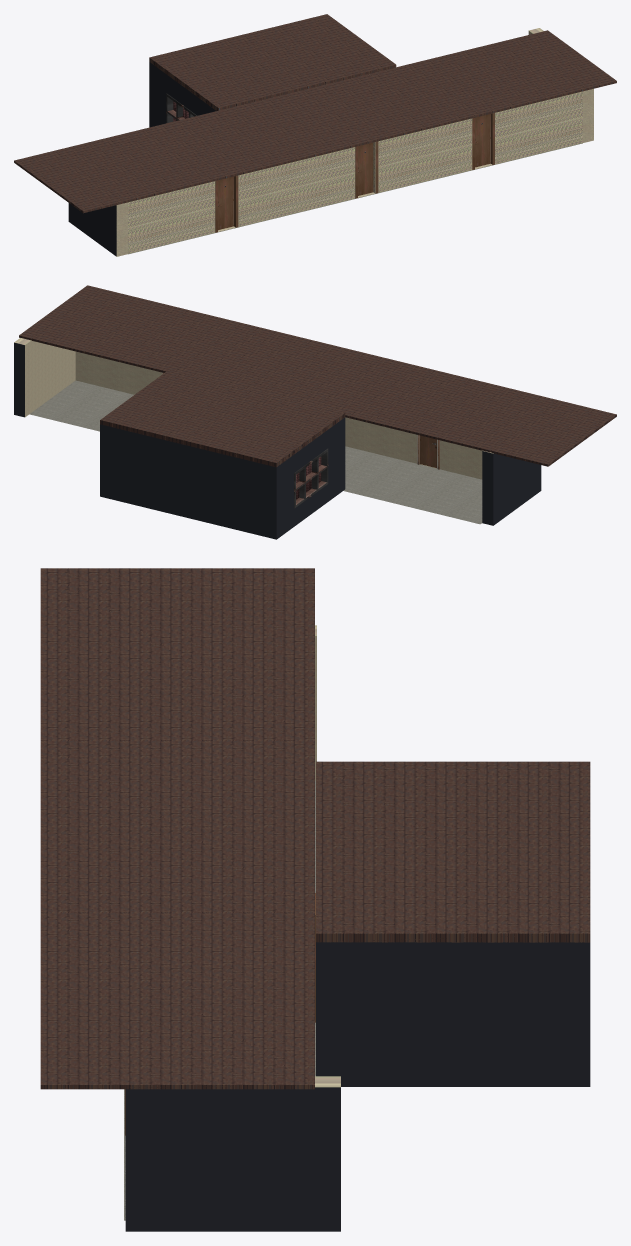
File: quarto finalizado.fbx
The picture shows the model from 3 angles, top to bottom: view 1: azimuth 30°, elevation 25°; view 2: azimuth 150°, elevation 25°; view 3: azimuth 270°, elevation 25°; orthographic projection. The views are drawn at different scales.
Parts seen in each view (by area): view 1: Teto corredor, Chão e paredes corredor, Teto, Chão e Paredes, Porta Corredor 2, Porta Corredor 1, Porta Corredor 3, Frame da janela, Frame Porta Corredor 3, Frame Porta Corredor 1, Frame Porta Corredor 2; view 2: Teto corredor, Chão e paredes corredor, Chão e Paredes, Teto, Frame da janela, Porta Corredor 3; view 3: Teto corredor, Teto, Chão e Paredes, Chão e paredes corredor.
Part boxes in pixels (bbox=[...]): Teto corredor: bbox=[14, 30, 616, 213]; Chão e paredes corredor: bbox=[68, 28, 593, 256]; Teto: bbox=[149, 14, 396, 110]; Chão e Paredes: bbox=[149, 62, 216, 127]; Porta Corredor 2: bbox=[475, 114, 490, 167]; Porta Corredor 1: bbox=[358, 142, 373, 195]; Porta Corredor 3: bbox=[218, 176, 233, 229]; Frame da janela: bbox=[166, 93, 196, 123]; Frame Porta Corredor 3: bbox=[215, 175, 238, 232]; Frame Porta Corredor 1: bbox=[355, 141, 378, 198]; Frame Porta Corredor 2: bbox=[472, 113, 494, 169]; Teto corredor: bbox=[19, 285, 616, 466]; Chão e paredes corredor: bbox=[14, 338, 541, 525]; Chão e Paredes: bbox=[100, 417, 345, 539]; Teto: bbox=[100, 370, 345, 467]; Frame da janela: bbox=[294, 448, 328, 508]; Porta Corredor 3: bbox=[420, 435, 436, 467]; Teto corredor: bbox=[40, 568, 314, 1089]; Teto: bbox=[316, 761, 590, 942]; Chão e Paredes: bbox=[316, 942, 590, 1086]; Chão e paredes corredor: bbox=[124, 625, 340, 1231].
Size of the model in its own units: 2300 by 319 by 1033.
Materials: 29 (27 with a texture image).
